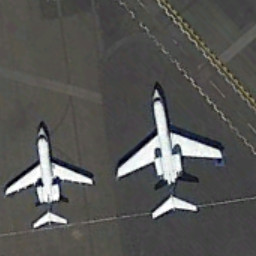Airplane: (111, 77, 228, 229), (1, 113, 100, 235)
